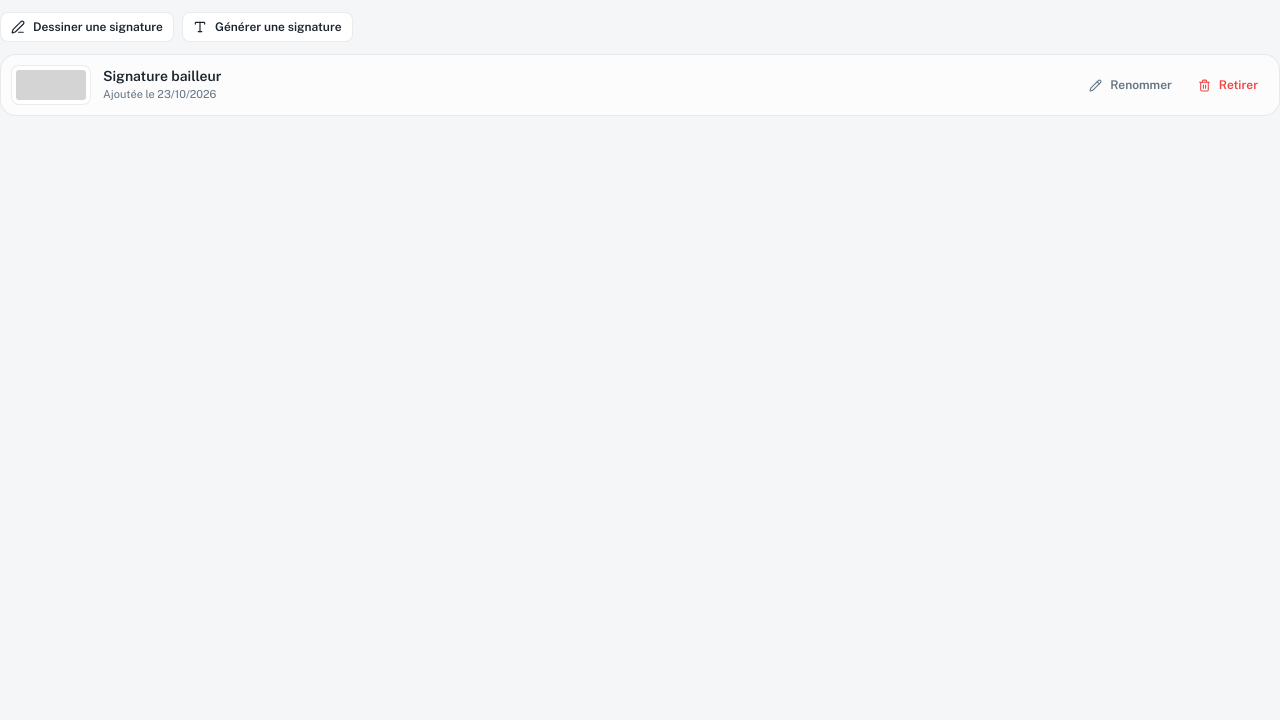
Test: SignatureStudio › renames an owned signature and confirms in French
The image size is (1280, 720).
Click the button with aria-label "Renommer Signature bailleur" at (1130, 85), box [1078,70,1183,100]
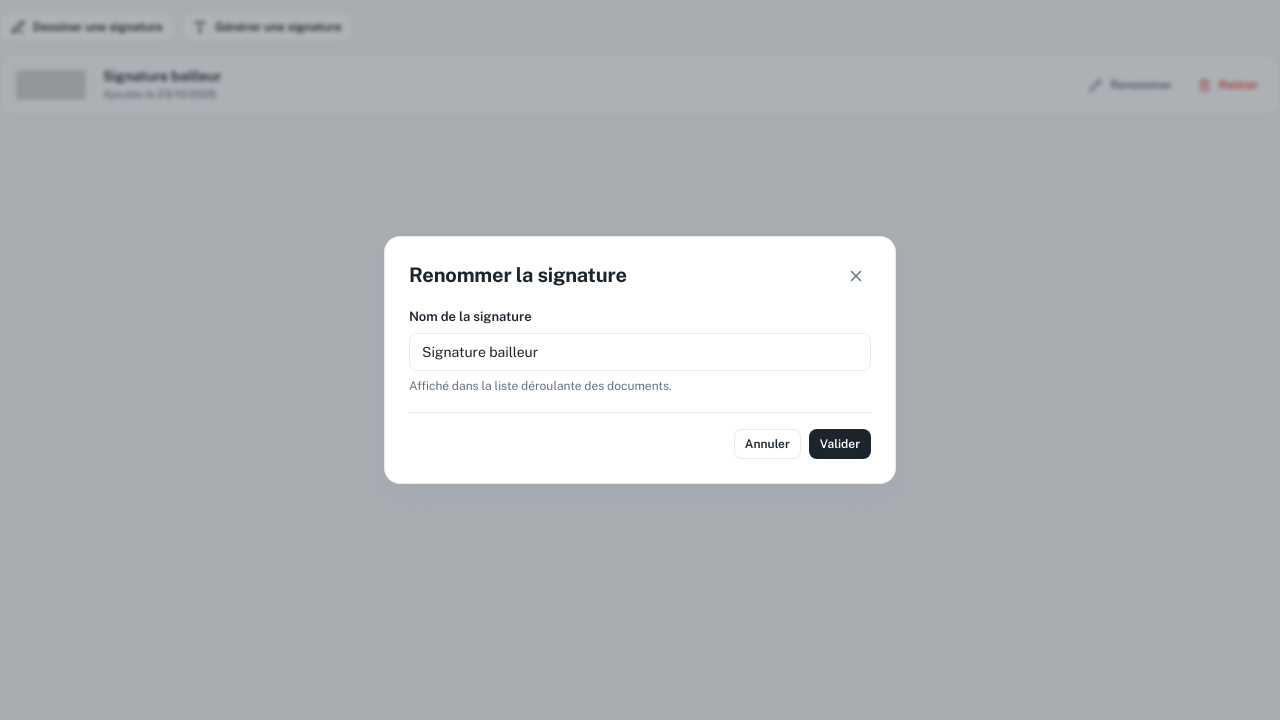
Result: the field labelled "Nom de la signature" holds "Signature bailleur"
Replace the text in the field labelled "Nom de la signature" with " Signature notaire " at (640, 352), box [409,333,871,371]
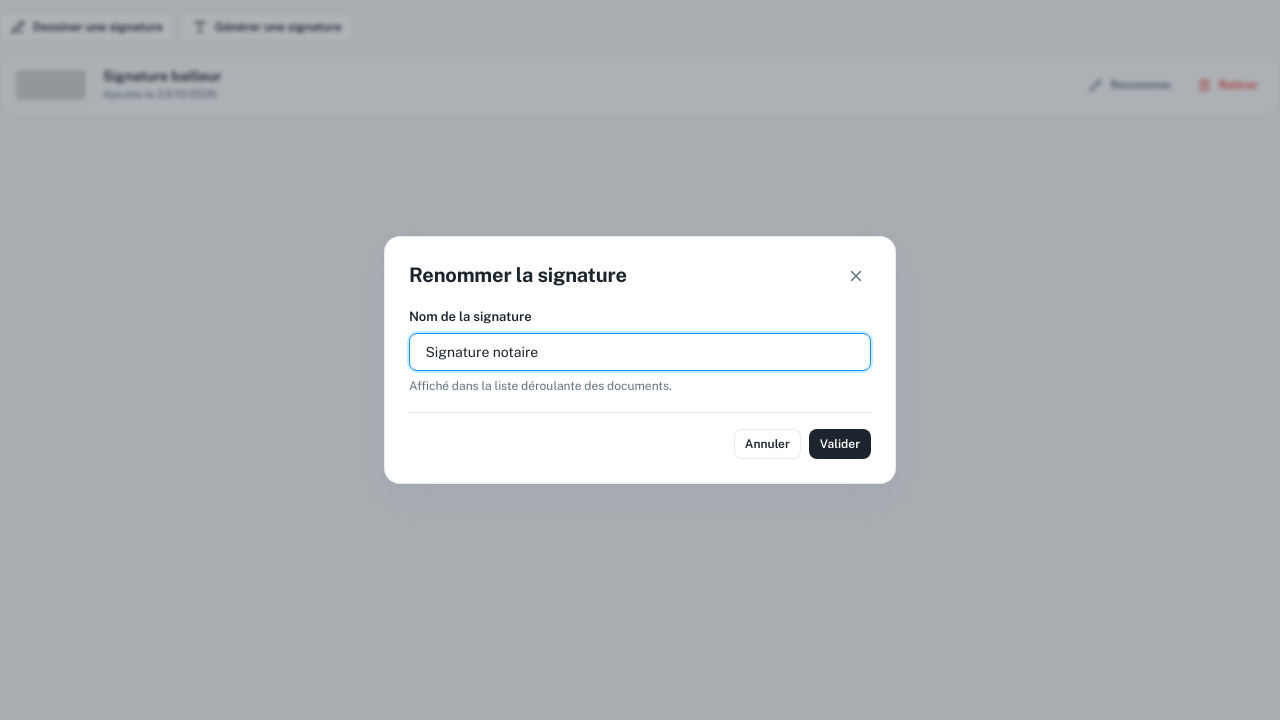
Click the button "Valider" at (840, 444), box [809,430,871,460]
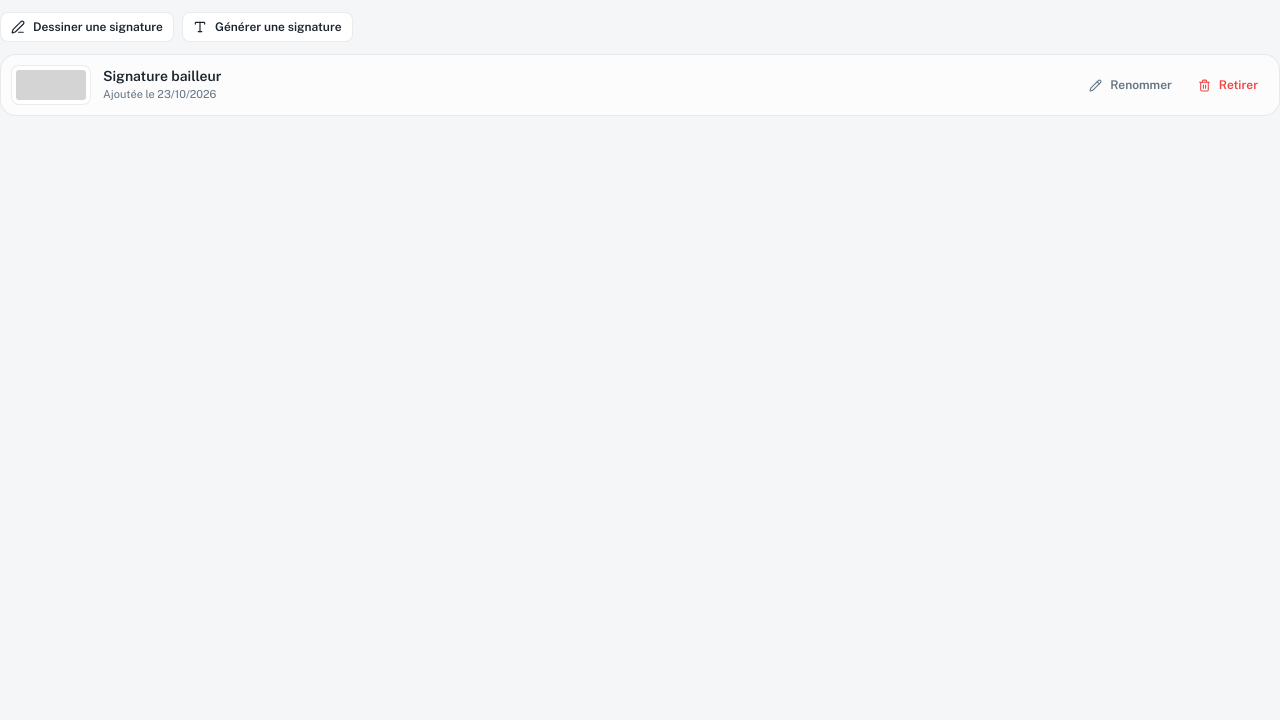
Result: the heading "Renommer la signature" is gone
